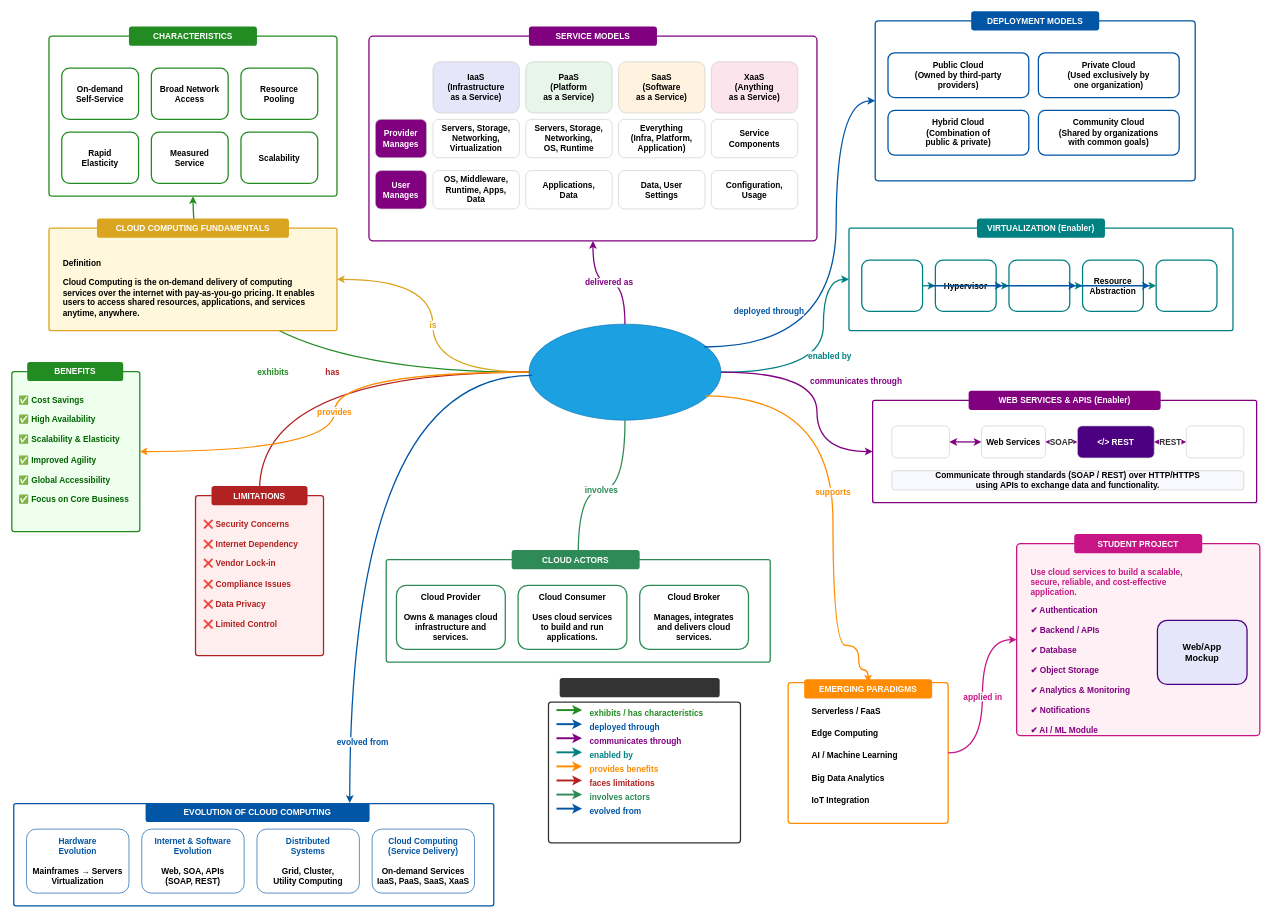
This 1271x917 diagram has some shape labels left out. The box of each missing label's shape, as (x1, y1, x2, y2) in pixels:
CLOUD COMPUTING CONCEPT MAP Technologies, Services, Actors & Relationships: (528, 324, 721, 420)
Consumer: (1186, 425, 1244, 458)
KEY RELATIONSHIPS (LEGEND): (559, 678, 719, 697)
Physical Server: (861, 259, 923, 312)
Provider: (891, 425, 949, 458)
Resource Sharing: (1155, 259, 1217, 312)
Virtual Machines: (1008, 259, 1070, 312)
